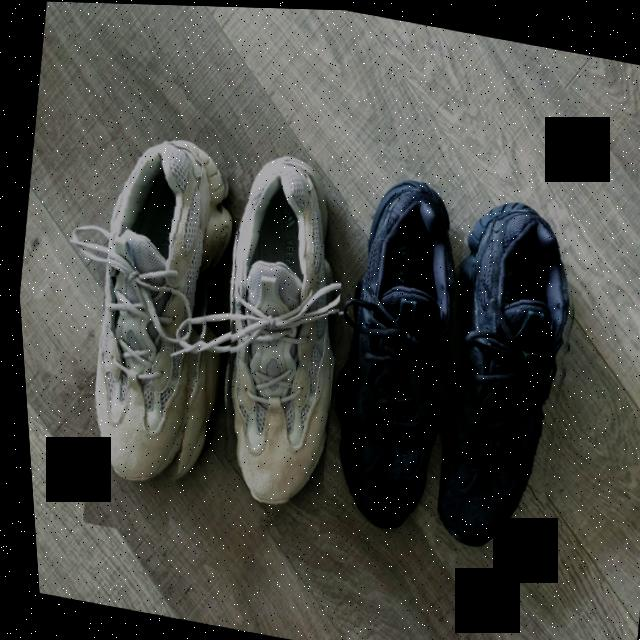shoe: (54, 116, 253, 544), (406, 180, 606, 571), (180, 145, 370, 546), (295, 167, 485, 546)
